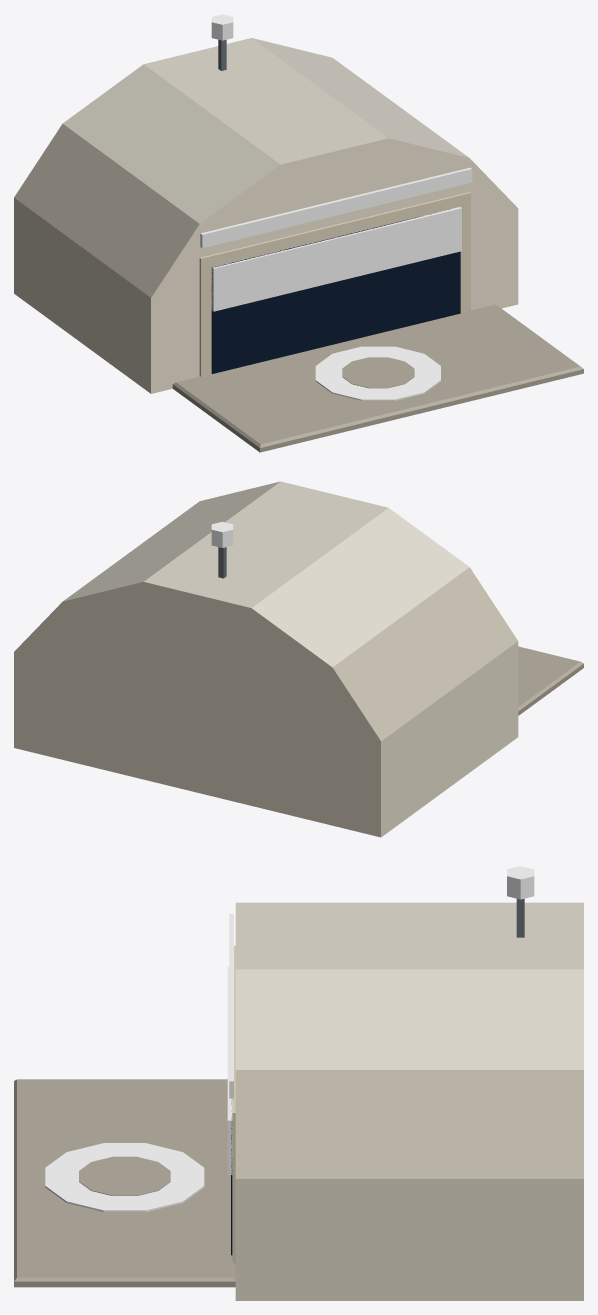
Rendered from depot.glb.
3 views of the same model, one above another, from view 1: azimuth 30°, elevation 25°; view 2: azimuth 150°, elevation 25°; view 3: azimuth 270°, elevation 25° (orthographic). The views are drawn at different scales.
Parts seen in each view (by area): view 1: depot, depot_lane; view 2: depot, depot_lane; view 3: depot, depot_lane.
Part boxes in pixels (x1,y1,x2,y2): depot: (14,38,583,452); depot_lane: (200,14,472,400); depot: (14,481,583,837); depot_lane: (211,522,233,547); depot: (14,898,583,1300); depot_lane: (45,866,534,1211).
Size of the model in its own units: 3.4 by 2.19 by 3.6.
Materials: 1 (1 with a texture image).
